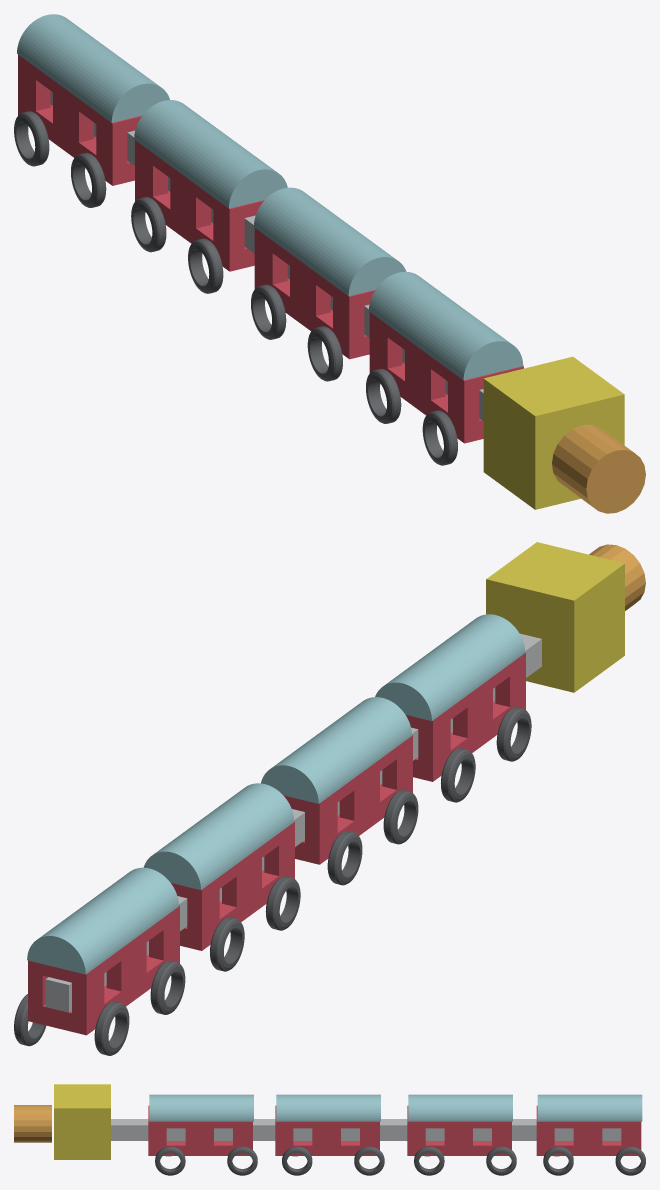
Rendered from Class 150.glb.
3 renders of one model, top to bottom at view 1: azimuth 30°, elevation 25°; view 2: azimuth 150°, elevation 25°; view 3: azimuth 270°, elevation 25°, orthographic. The views are drawn at different scales.
Visible parts, largest first — view 1: Mesh_Mesh_head_geo.001_lambert2SG.001; view 2: Mesh_Mesh_head_geo.001_lambert2SG.001; view 3: Mesh_Mesh_head_geo.001_lambert2SG.001.
Boxes of the visible parts, bbox=[...] form: Mesh_Mesh_head_geo.001_lambert2SG.001: bbox=[14, 14, 645, 513]; Mesh_Mesh_head_geo.001_lambert2SG.001: bbox=[14, 542, 645, 1055]; Mesh_Mesh_head_geo.001_lambert2SG.001: bbox=[14, 1084, 645, 1175].
Bounding box in the file's own units: 30 × 40 × 332.
